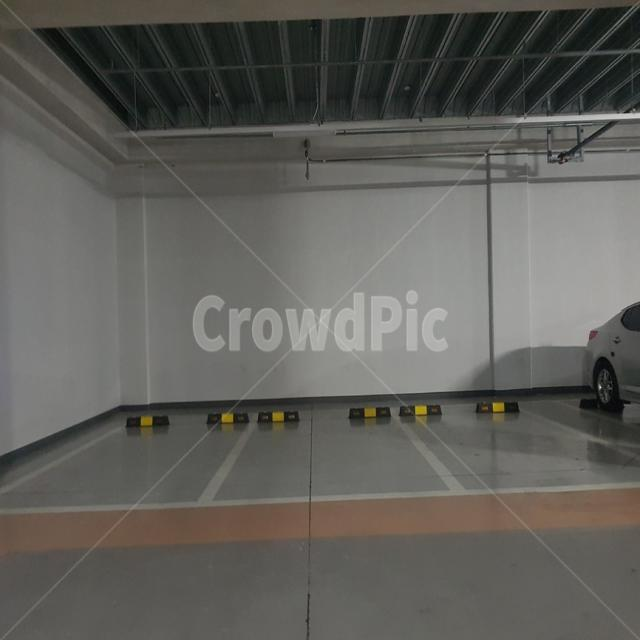empty: (0, 416, 257, 511), (203, 414, 463, 503), (405, 400, 640, 486)
